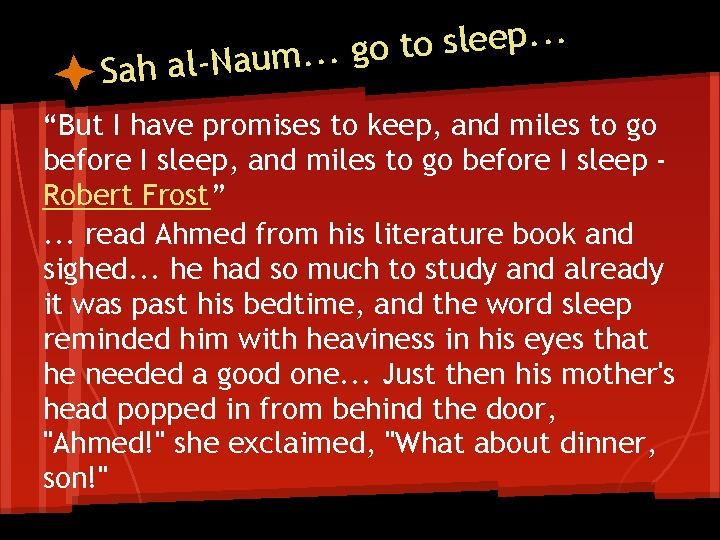paragraph: (32, 107, 692, 498)
title: (46, 15, 587, 93)
